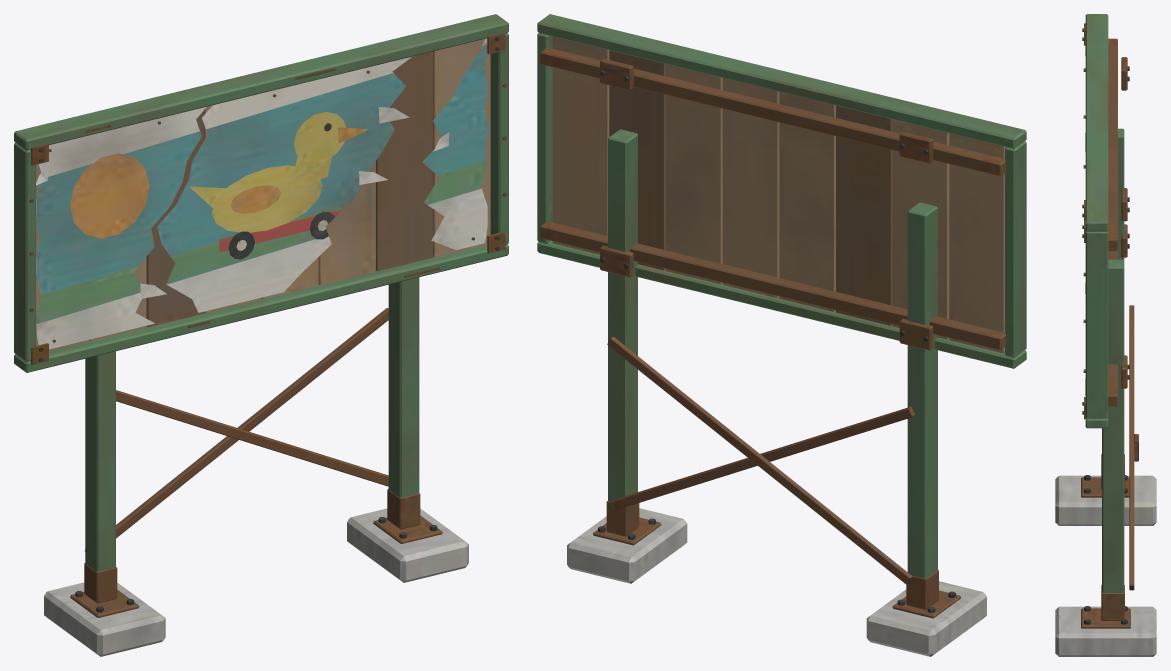
The model's file is R11_billboard.glb.
3 renders of one model, left to right at view 1: azimuth 30°, elevation 25°; view 2: azimuth 150°, elevation 25°; view 3: azimuth 270°, elevation 25°, orthographic. The views are drawn at different scales.
Parts seen in each view (by area): view 1: Concrete footing; view 2: Concrete footing; view 3: Concrete footing.
Boxes of the visible parts, x1,y1,x2,y2 form: Concrete footing: (14,14,508,656); Concrete footing: (537,14,1026,656); Concrete footing: (1055,14,1156,656).
Size of the model in its own units: 5.84 by 6 by 1.2.
14 materials, 14 textured.
